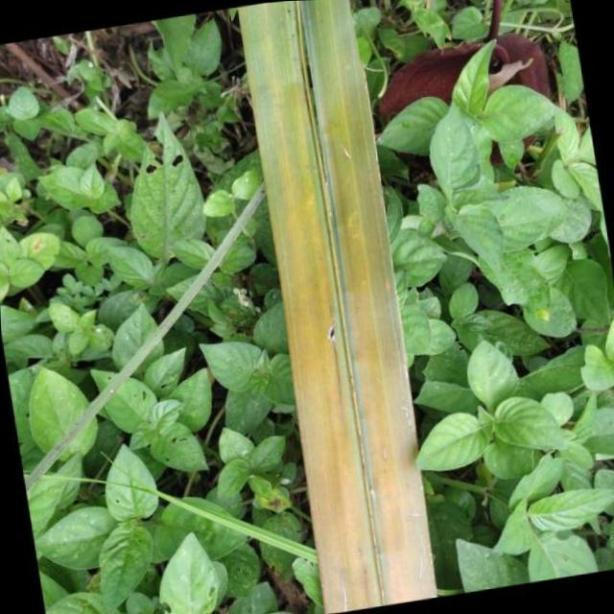Megnesium: (238, 0, 437, 614)
